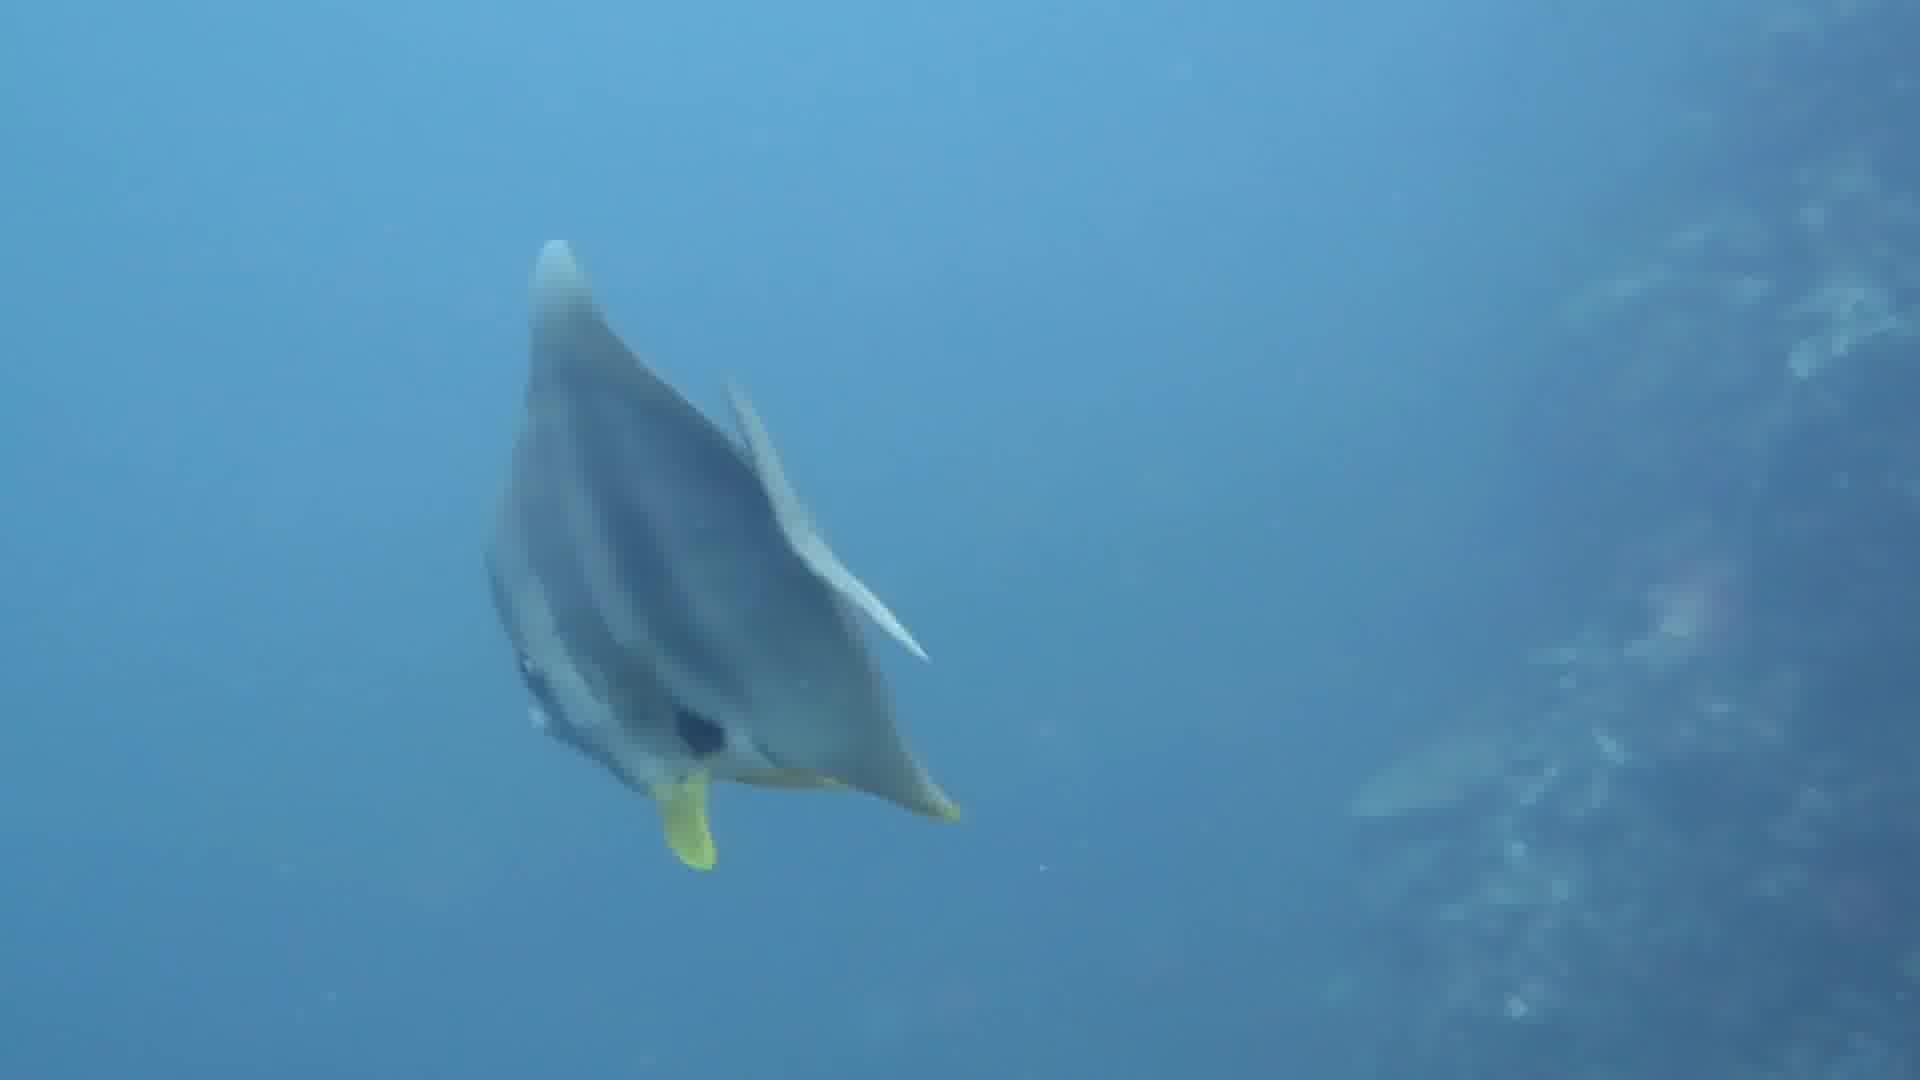Platax teira: (371, 200, 1011, 913)
